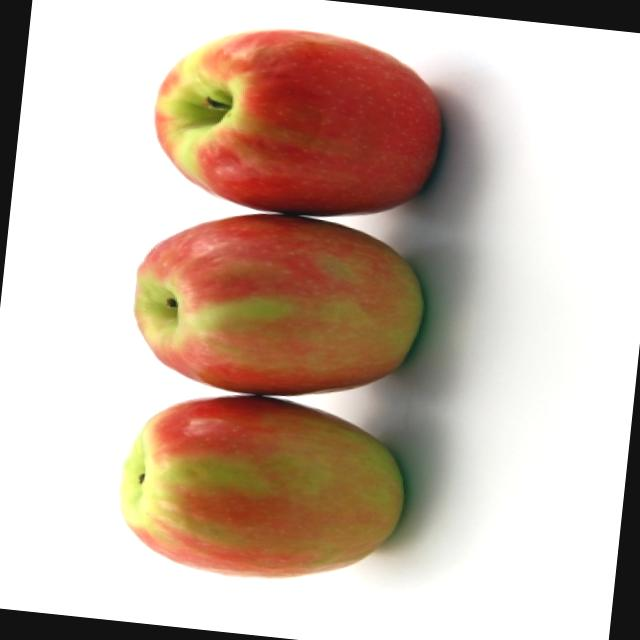apple: (106, 380, 414, 593), (146, 13, 450, 228), (126, 200, 428, 410)
